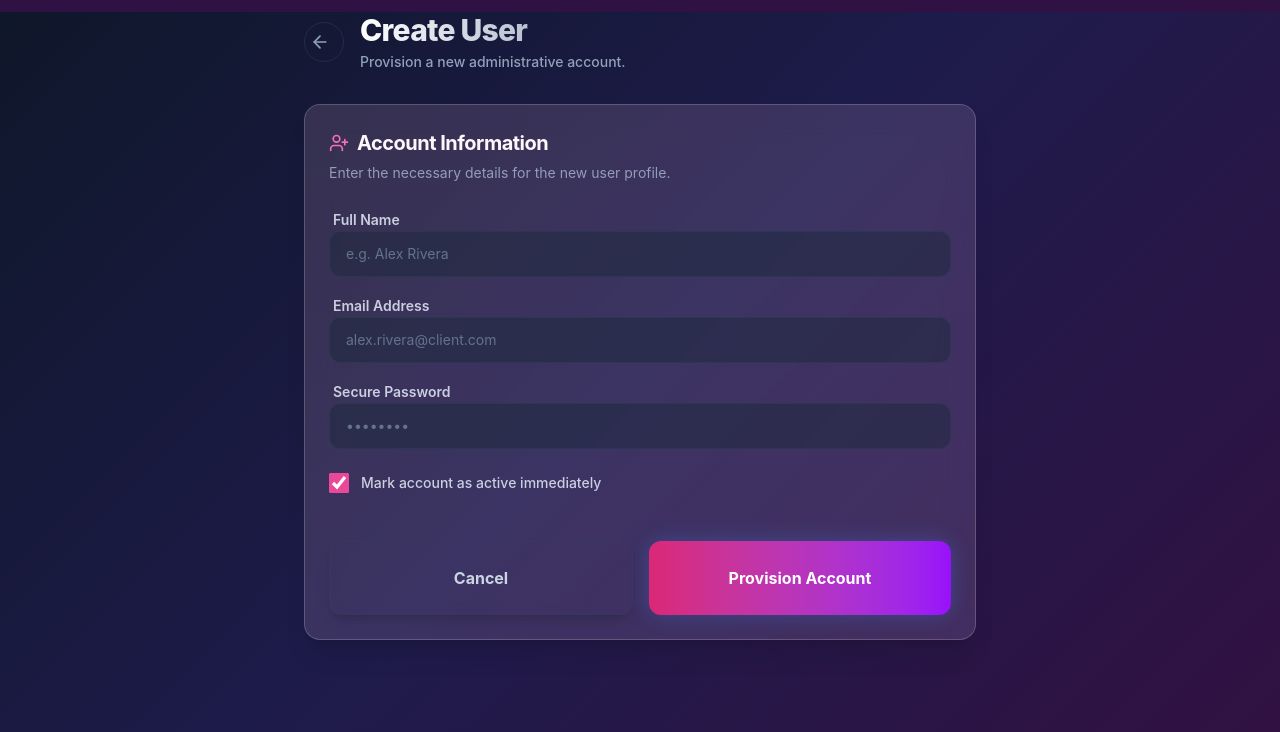
Test: UserCreate Component › shows error message when creation fails
Type "Test User" into the field labelled "Full Name".
click(640, 254); type("Test User")  # box [329,231,951,277]
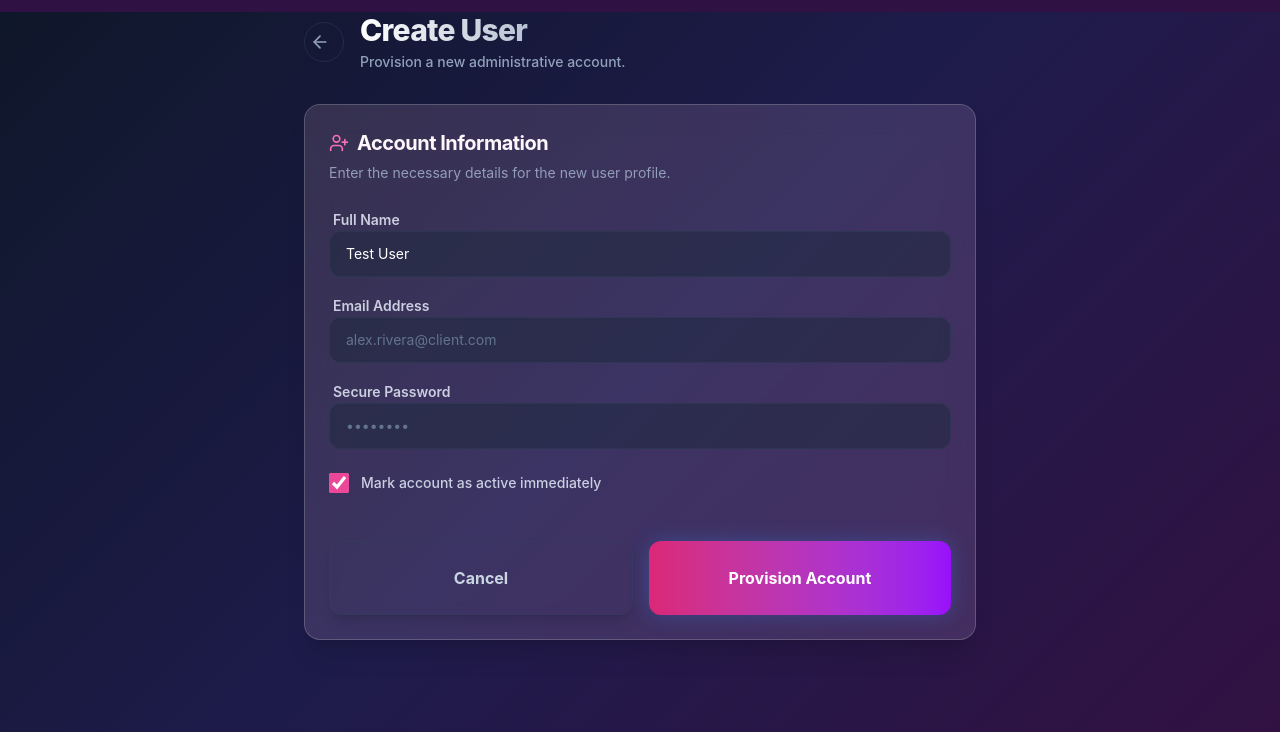
Type "test@invalid.com" into the field labelled "Email Address".
click(640, 340); type("test@invalid.com")  # box [329,317,951,363]
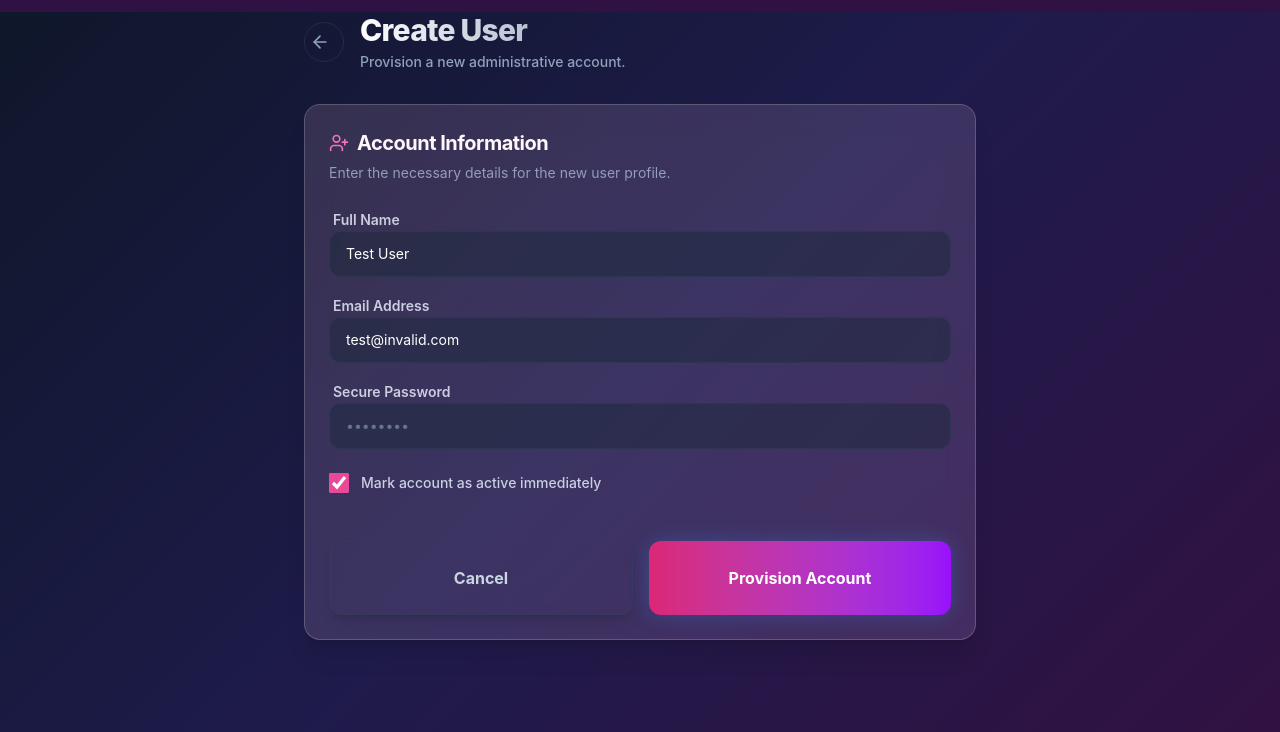
Type "password123" into the password field labelled "Secure Password".
click(640, 426); type("password123")  # box [329,403,951,449]
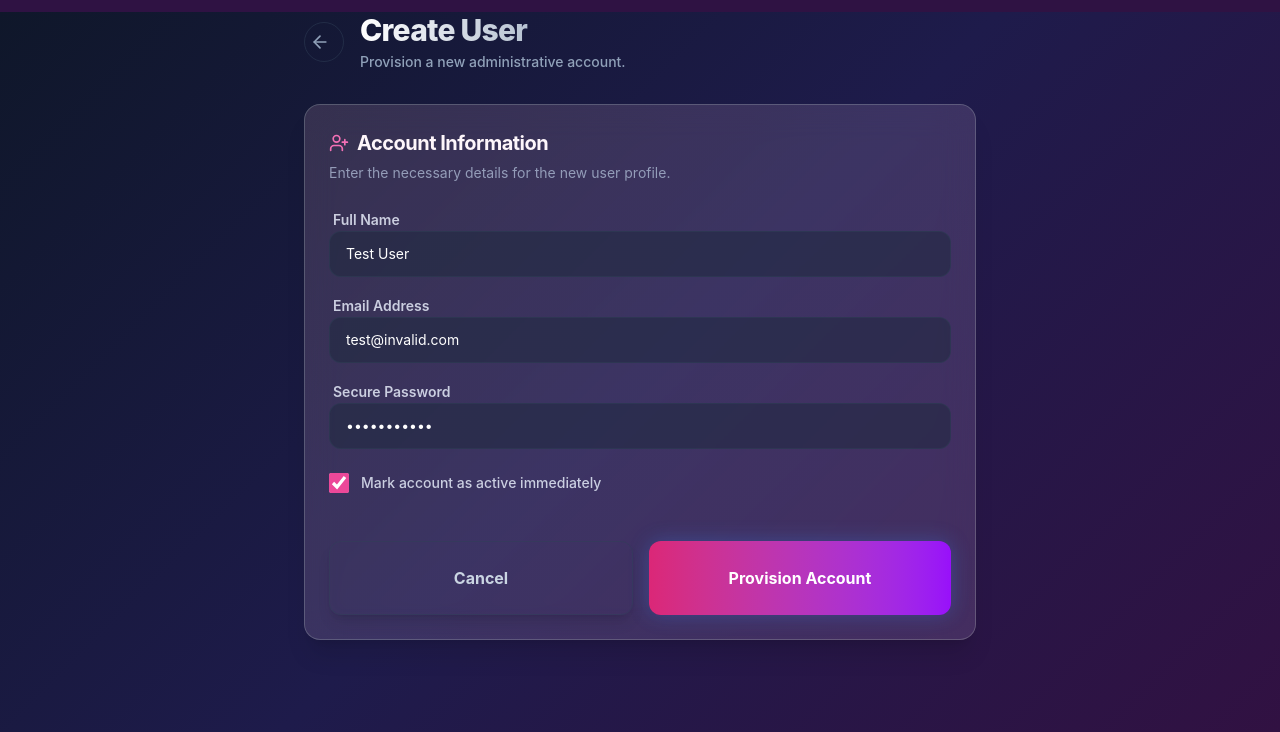
Click the button "Provision Account".
click(800, 578)  # box [649,541,951,615]
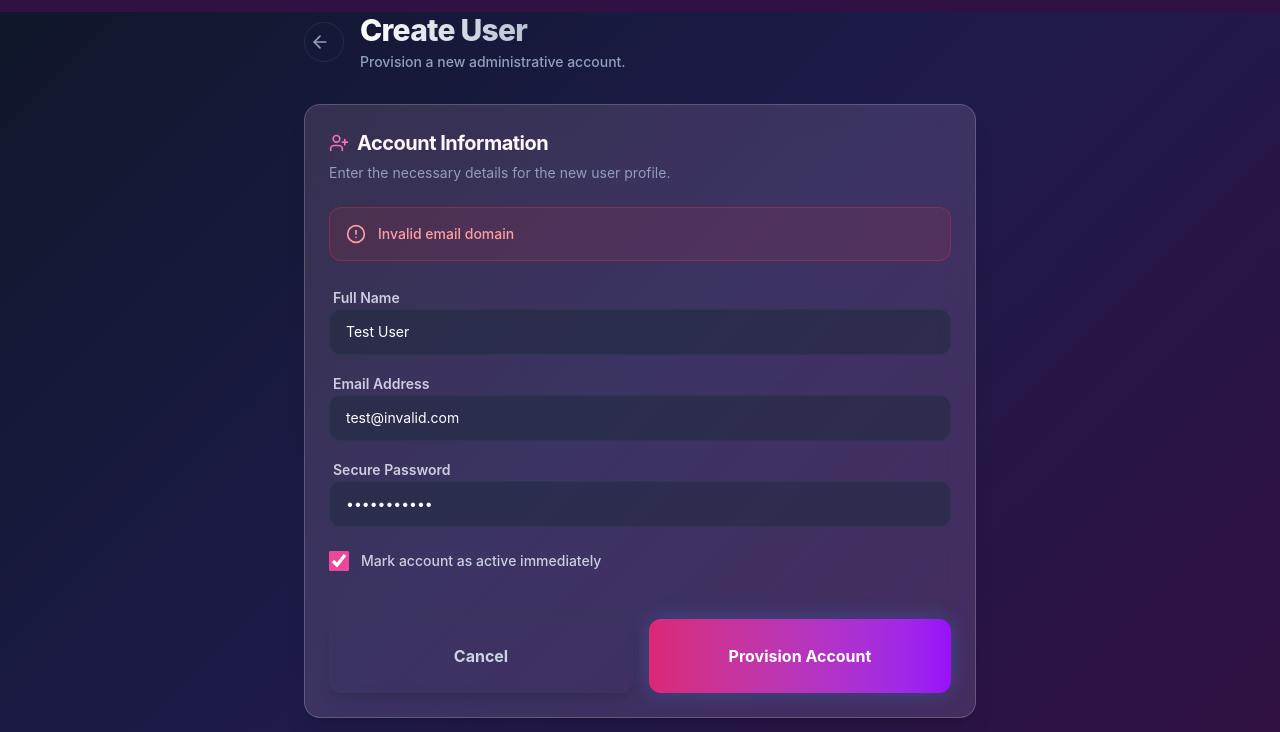
Now the text "Invalid email domain" is shown, box [378,224,514,244]
